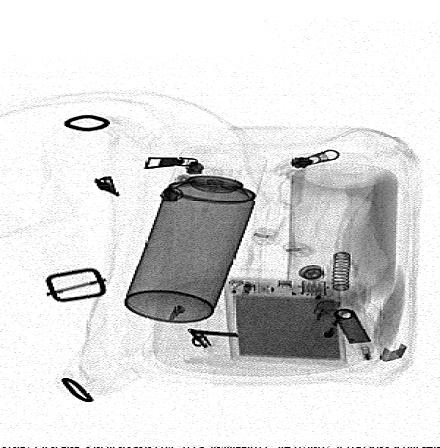Lighter: (286, 300, 349, 364)
Powerbank: (224, 277, 348, 367)
Sprayer: (122, 144, 270, 324)
